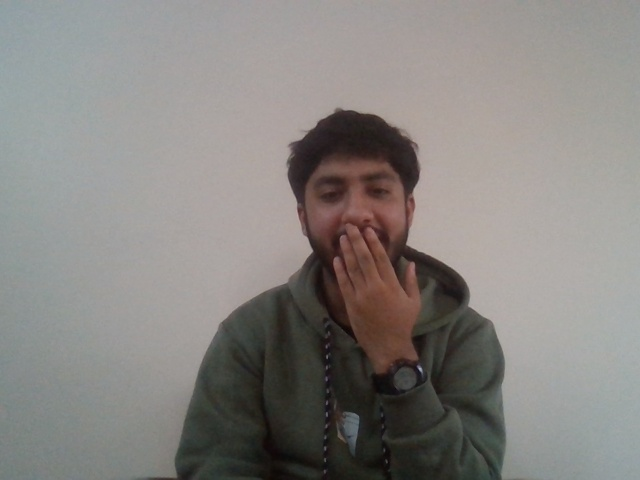Thanks: (310, 220, 443, 351)
